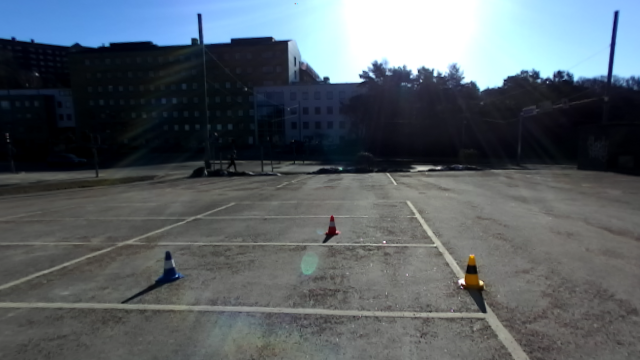blue: (155, 250, 182, 283)
orange: (322, 215, 339, 238)
yellow: (456, 251, 485, 289)
